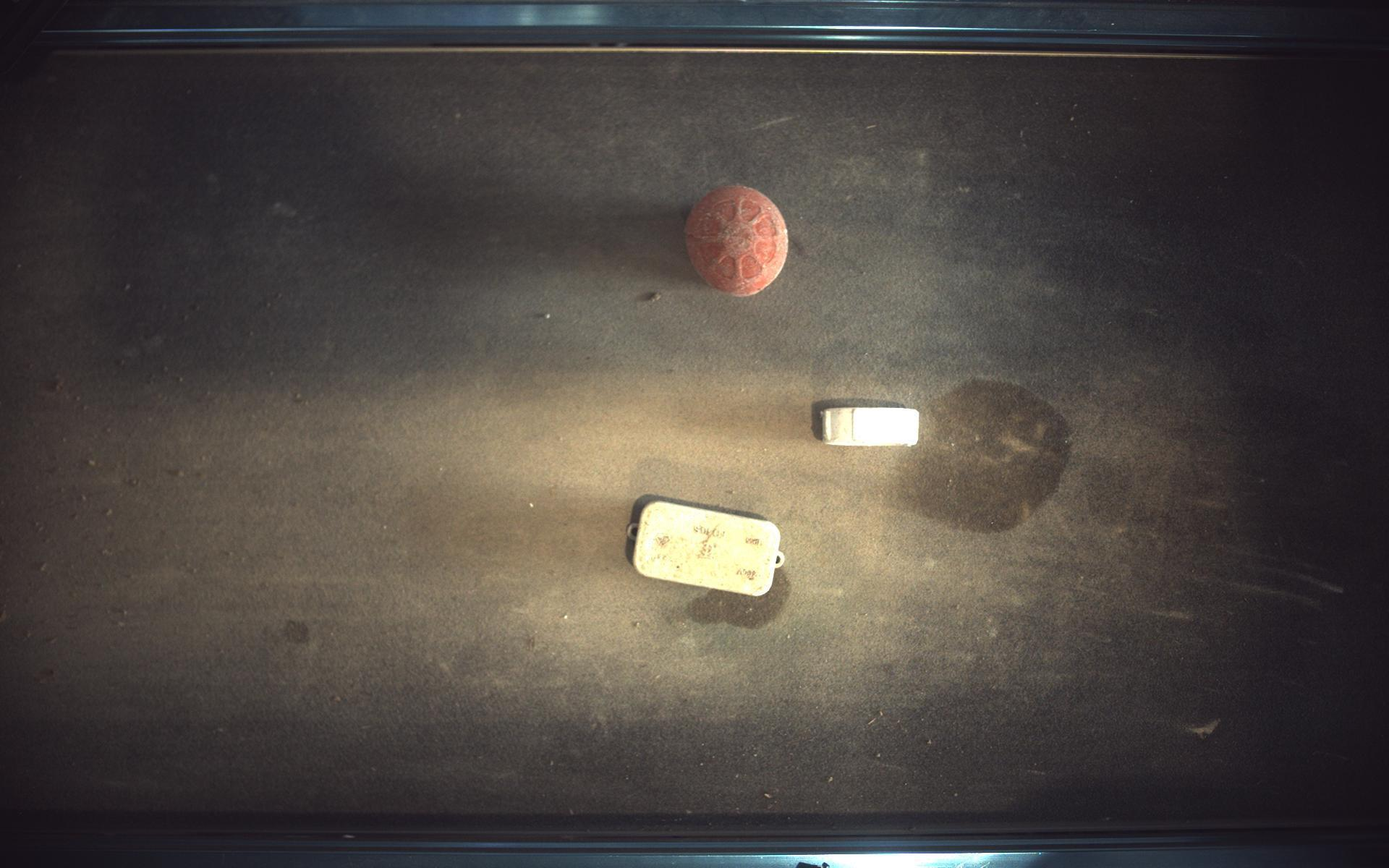general_w: (814, 399, 921, 446)
plastic: (626, 495, 786, 597), (687, 184, 789, 296)
